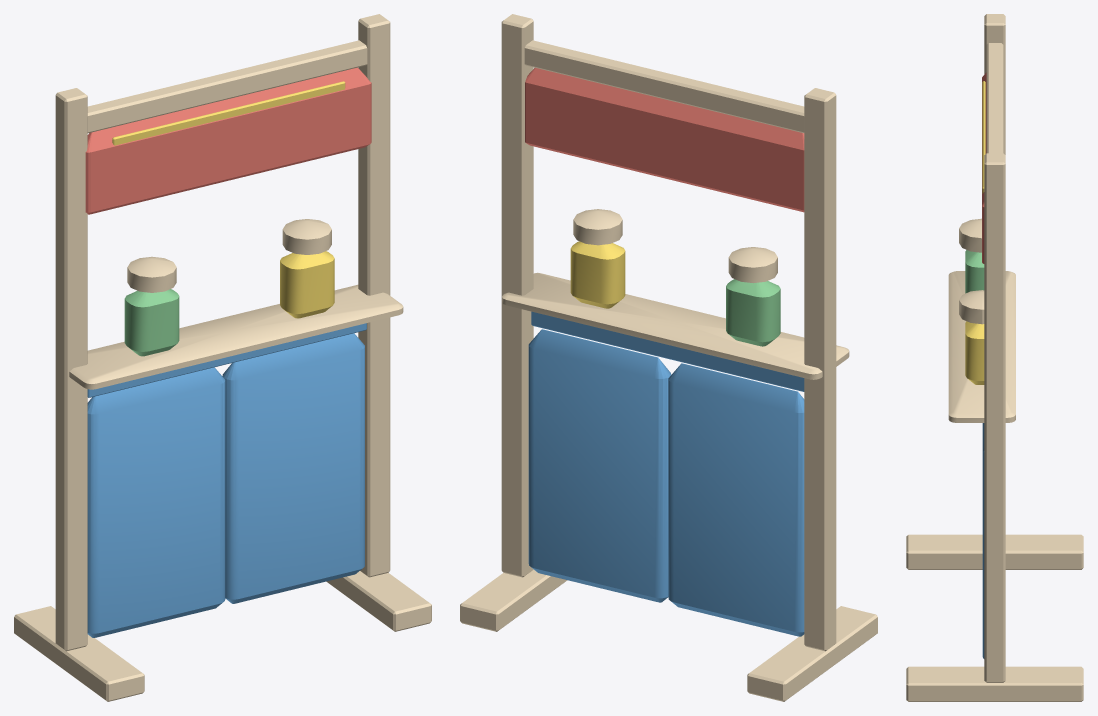
File: nursery-and-primary-classroom-puppet-theatre-frame-6805e67f__35011.glb
The picture shows the model from 3 angles, left to right: view 1: azimuth 30°, elevation 25°; view 2: azimuth 150°, elevation 25°; view 3: azimuth 270°, elevation 25°; orthographic projection. The views are drawn at different scales.
Visible parts, largest first — view 1: puppet-theatre-frame; view 2: puppet-theatre-frame; view 3: puppet-theatre-frame.
Boxes of the visible parts, box(x1,y1,x2,y2) form: puppet-theatre-frame: box(14, 14, 431, 701); puppet-theatre-frame: box(460, 14, 877, 701); puppet-theatre-frame: box(906, 14, 1083, 701).
Size of the model in its own units: 0.8401 by 1.41 by 0.42.
